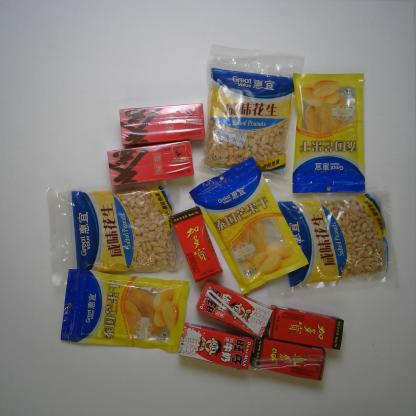Dried Fruit: (191, 157, 310, 300), (46, 177, 187, 287), (201, 48, 308, 185), (277, 186, 399, 298), (59, 268, 191, 355), (290, 70, 366, 194)
Drink: (167, 205, 224, 285), (266, 304, 346, 350), (250, 336, 328, 382)
Instant Drink: (105, 140, 195, 187), (118, 104, 206, 146)
Milk: (195, 279, 274, 340), (176, 321, 256, 371)
